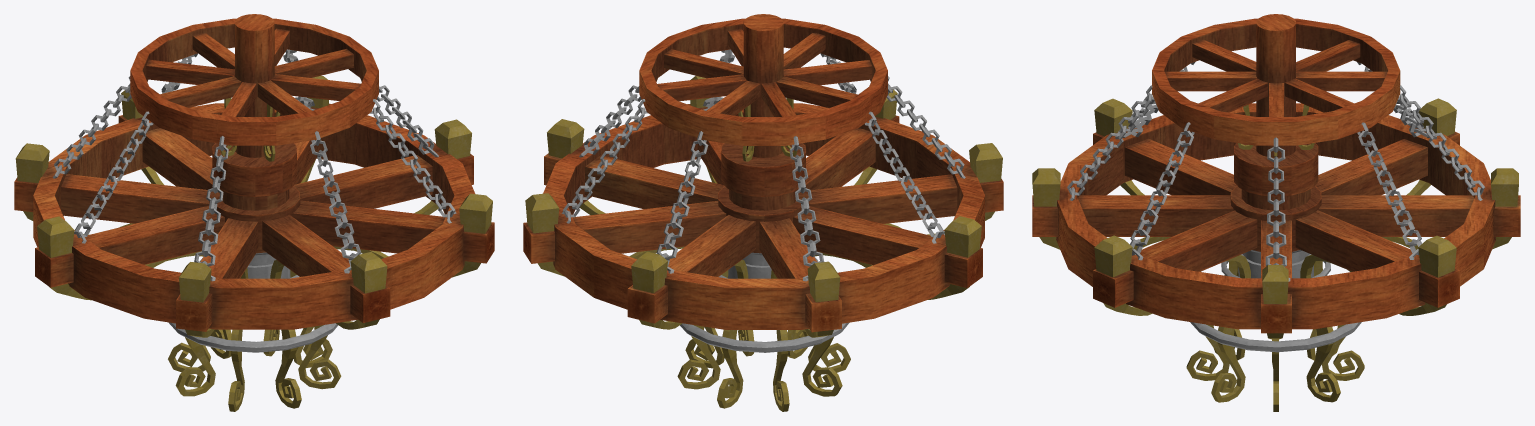
File: SM_Lamp_07.fbx
The picture shows the model from 3 angles, left to right: view 1: azimuth 30°, elevation 25°; view 2: azimuth 150°, elevation 25°; view 3: azimuth 270°, elevation 25°; orthographic projection.
Visible parts, largest first — view 1: SM_Chain_Group_01; view 2: SM_Chain_Group_01; view 3: SM_Chain_Group_01.
Part boxes in pixels (bbox=[...]): SM_Chain_Group_01: bbox=[14, 14, 494, 411]; SM_Chain_Group_01: bbox=[523, 14, 1003, 411]; SM_Chain_Group_01: bbox=[1032, 14, 1520, 411].
Size of the model in its own units: 362 by 292 by 362.
